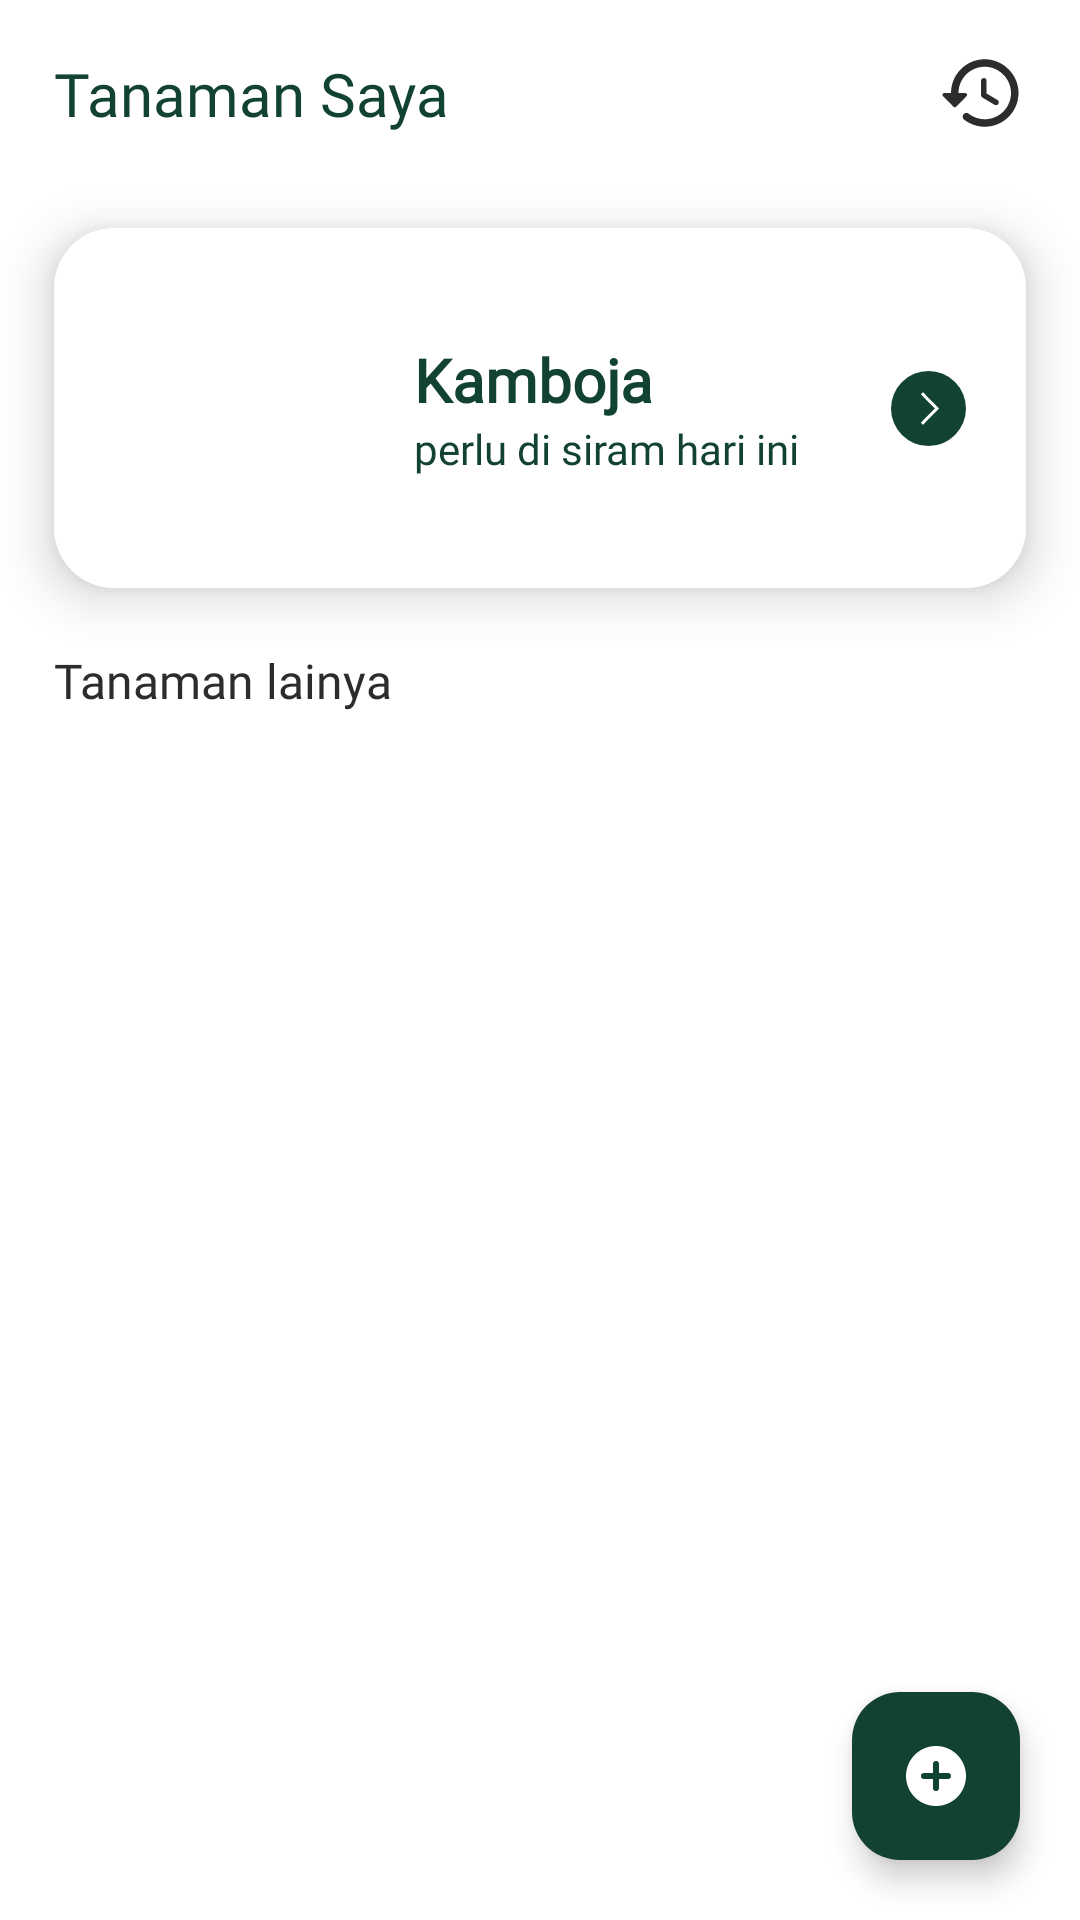

Screen size 1080 × 1920. Icon name, then its box in pixels as (x1, y1, x2, y2):
history: (942, 59, 1019, 127)
next: (891, 371, 966, 446)
plus: (852, 1692, 1020, 1860)
